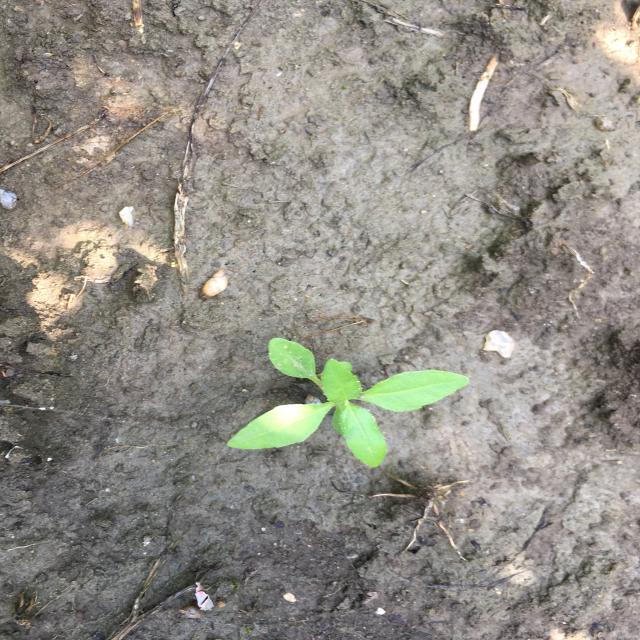Eclipta: (224, 336, 473, 470)
